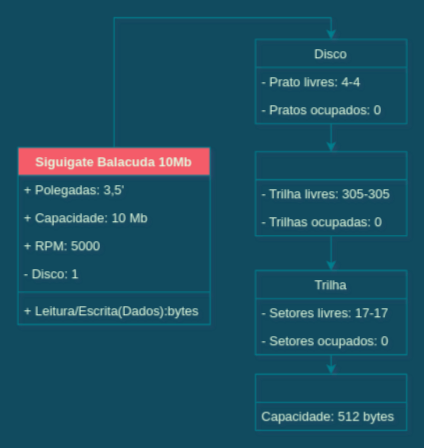
This 424x448 diagram has some shape labels left out. Here are the shapes that lost their labels. From the top down, the box of each, then its label:
(254, 151, 407, 236): Prato
(254, 373, 407, 430): Setor
